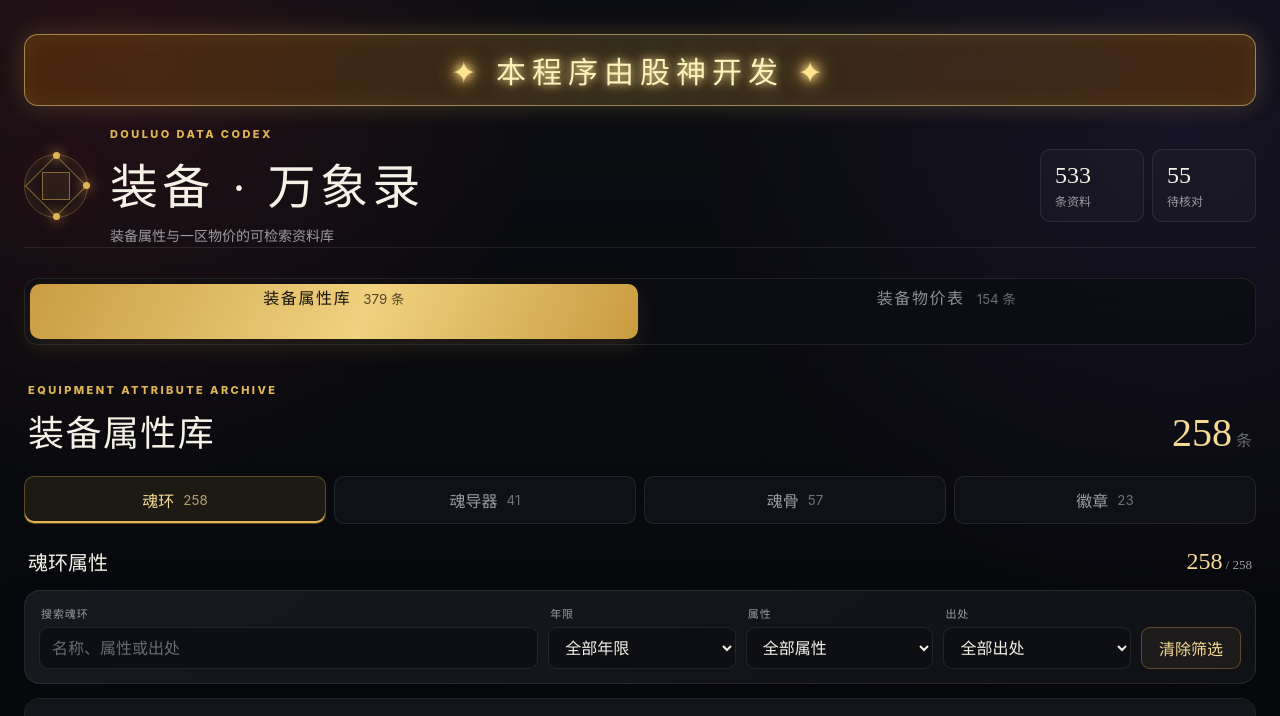
Scenario: dashboard modules › classifies necklaces, rings and hidden weapons and links range pricing
Click the button "装备物价表 154 条" at [921, 298], box [642, 284, 1250, 339]
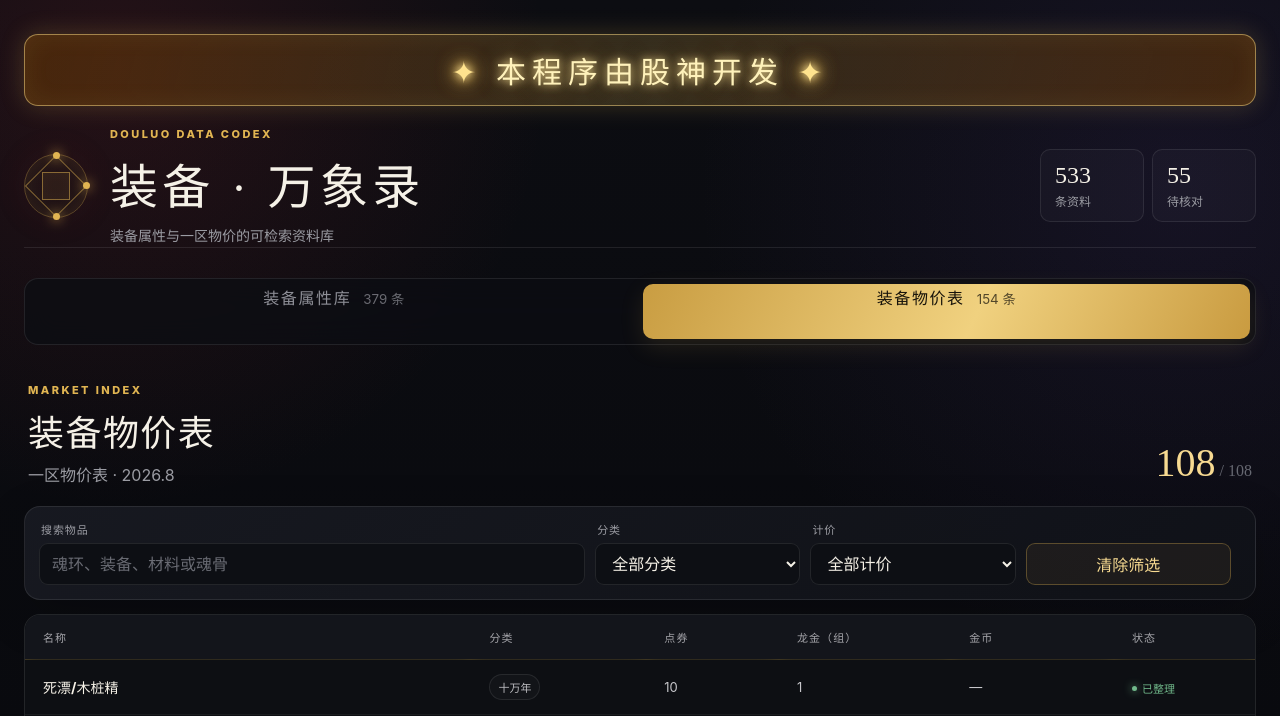
Select "戒指" in the dropdown labelled "分类" at [698, 564], box [595, 543, 800, 585]
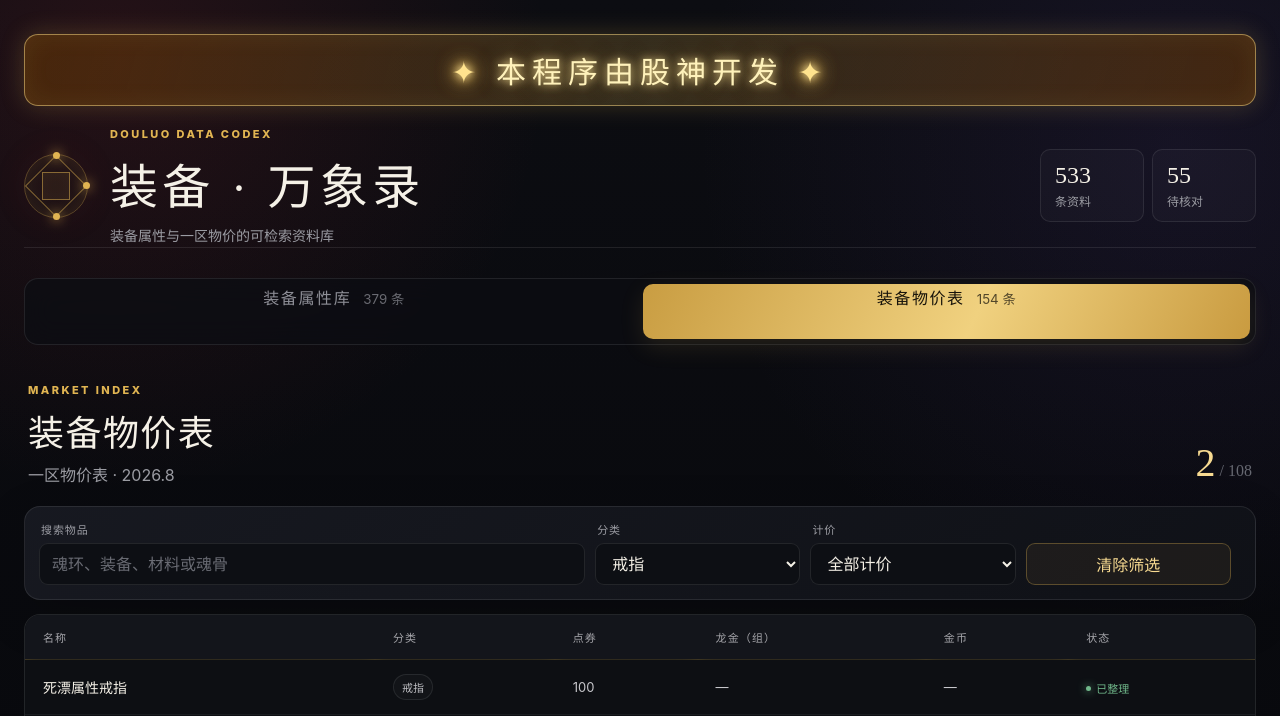
Expected: the heading "暗器" is not shown
Now the text "死漂属性戒指" is shown, box [43, 679, 127, 696]
Select "暗器" in the dropdown labelled "分类" at [698, 564], box [595, 543, 800, 585]
(page scrolled)
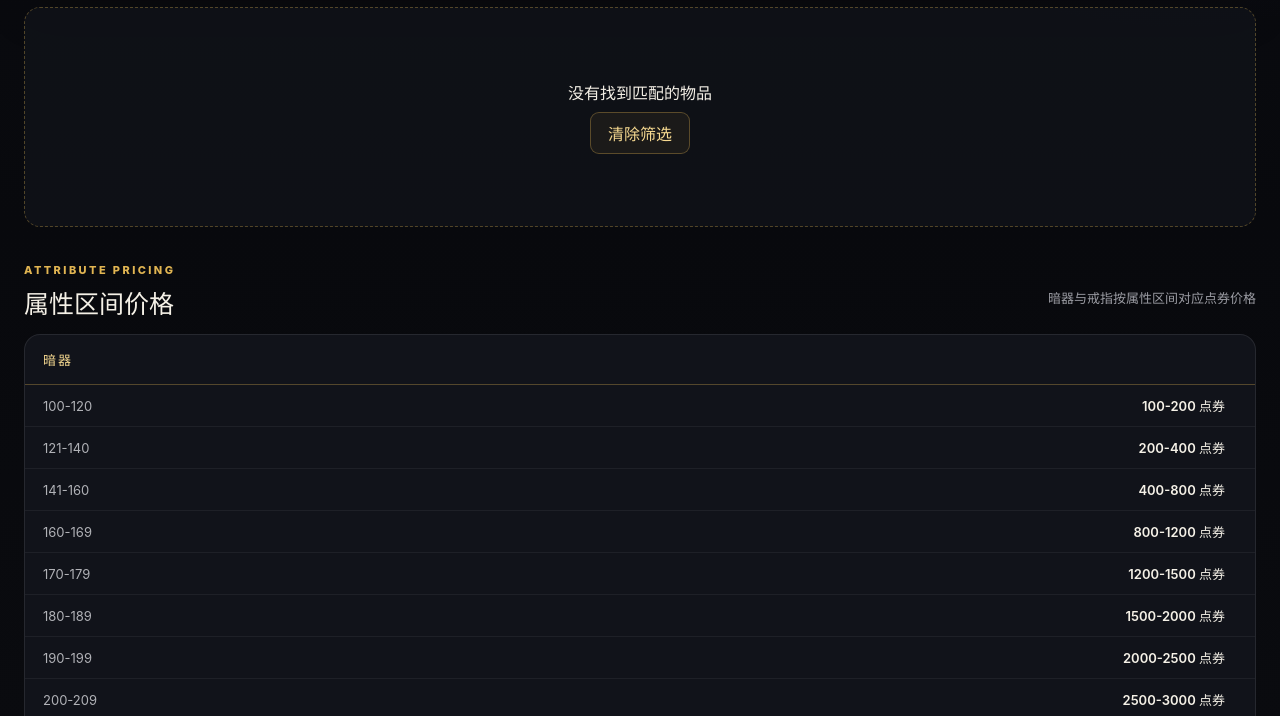
Now the heading "暗器" is shown, box [25, 335, 1255, 385]
